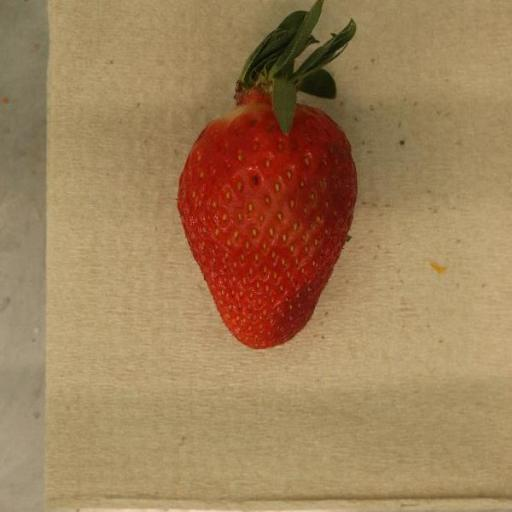Strawberry: (177, 0, 358, 349)
